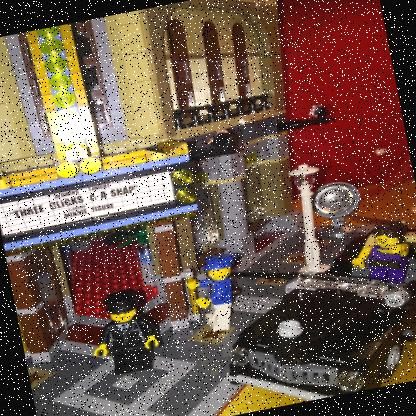Car: (205, 221, 415, 415)
